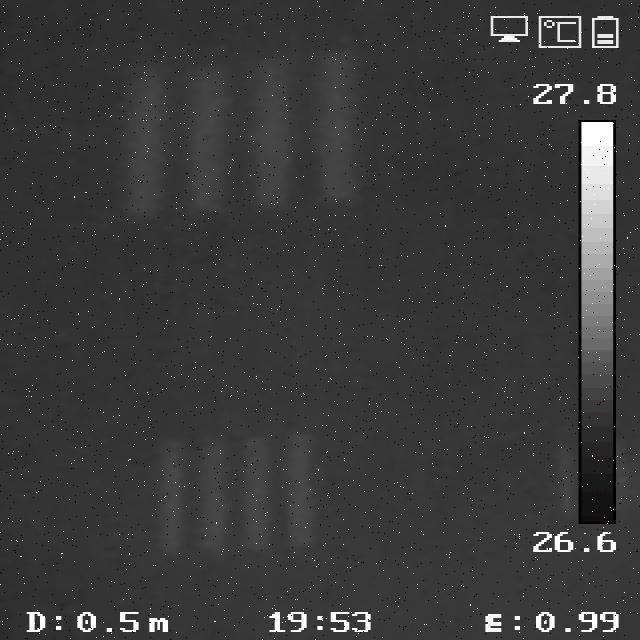threshold 4-bar target: (120, 56, 368, 212), (157, 434, 319, 552)
